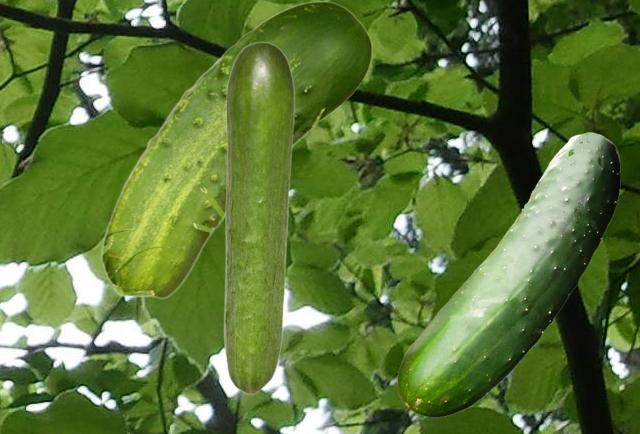cucumber: (100, 1, 371, 298), (397, 132, 619, 416), (223, 41, 294, 394)
